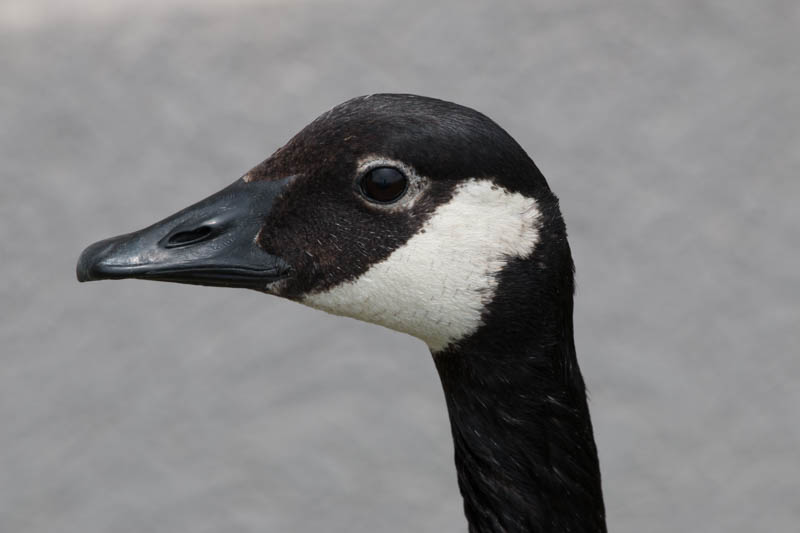goose-head: (75, 94, 574, 352)
